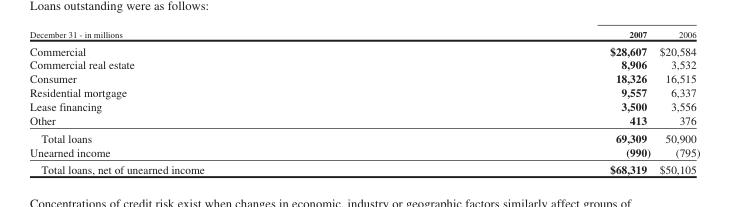table: (29, 28, 699, 175)
table column: (29, 28, 406, 175), (406, 28, 654, 175), (654, 28, 699, 175)
table column header: (29, 28, 699, 41)
table row: (29, 41, 699, 57), (29, 128, 699, 144), (29, 144, 699, 160), (29, 113, 699, 128), (29, 160, 699, 175), (29, 57, 699, 71), (29, 71, 699, 85), (29, 85, 699, 99), (29, 99, 699, 113), (29, 28, 699, 41)
